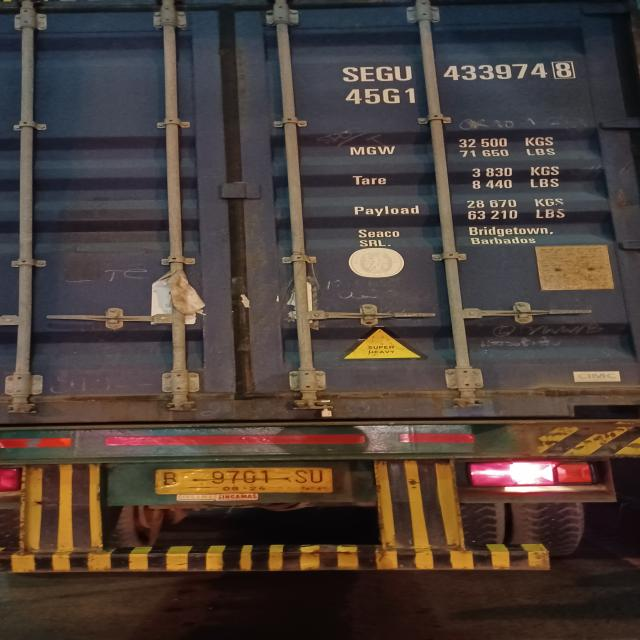seal: (319, 399, 334, 417)
